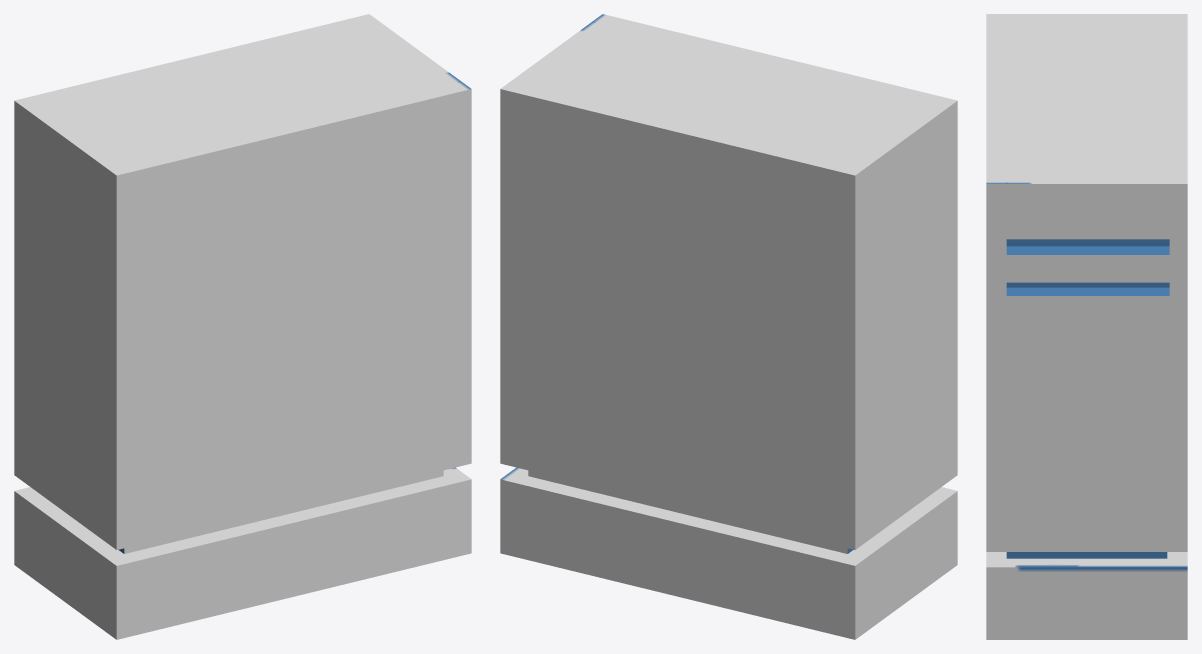
Rendered from BareMetal.dae.
3 renders of one model, left to right at view 1: azimuth 30°, elevation 25°; view 2: azimuth 150°, elevation 25°; view 3: azimuth 270°, elevation 25°, orthographic.
Visible parts, largest first — view 1: BareMetal; view 2: BareMetal; view 3: BareMetal.
Boxes of the visible parts, <box> form: BareMetal: <box>14,14,471,639</box>; BareMetal: <box>500,14,957,639</box>; BareMetal: <box>986,14,1187,639</box>.
Size of the model in its own units: 1.6 by 0.8 by 2.
Materials: 1 (1 with a texture image).
